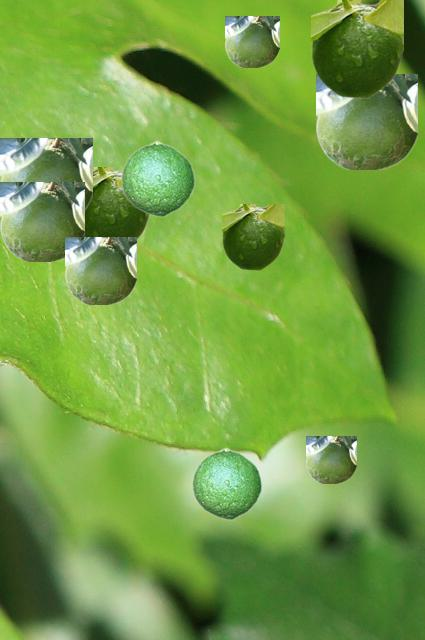dalandan: (316, 74, 416, 168), (311, 0, 402, 97), (0, 138, 91, 212), (0, 182, 83, 260), (120, 140, 194, 216), (191, 447, 261, 519), (84, 167, 149, 240), (65, 237, 135, 303), (222, 204, 283, 269), (225, 16, 278, 66), (306, 436, 355, 482)
